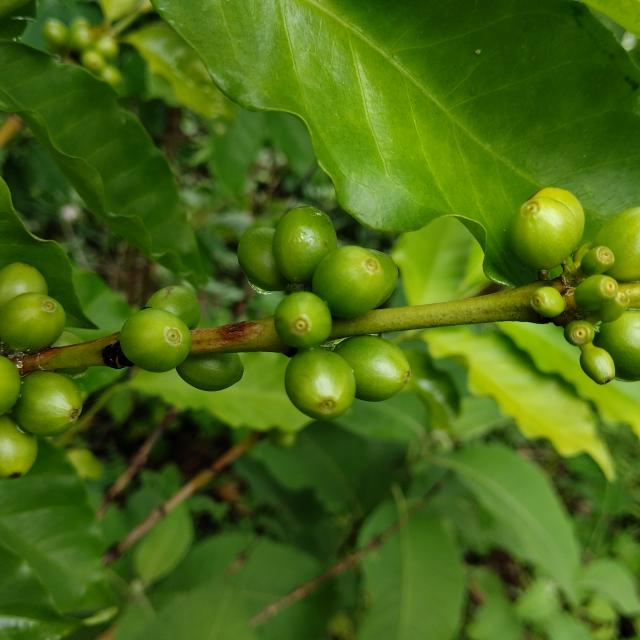green: (312, 245, 399, 318), (285, 347, 356, 421), (510, 197, 580, 270), (335, 335, 411, 402), (272, 206, 337, 284), (119, 308, 191, 373), (11, 371, 81, 437), (0, 292, 65, 353), (237, 227, 290, 294), (274, 292, 332, 349), (528, 187, 586, 241), (175, 354, 244, 392), (146, 286, 200, 330), (0, 415, 36, 479), (0, 262, 47, 310), (575, 274, 620, 311), (581, 343, 616, 385), (531, 286, 567, 318)
